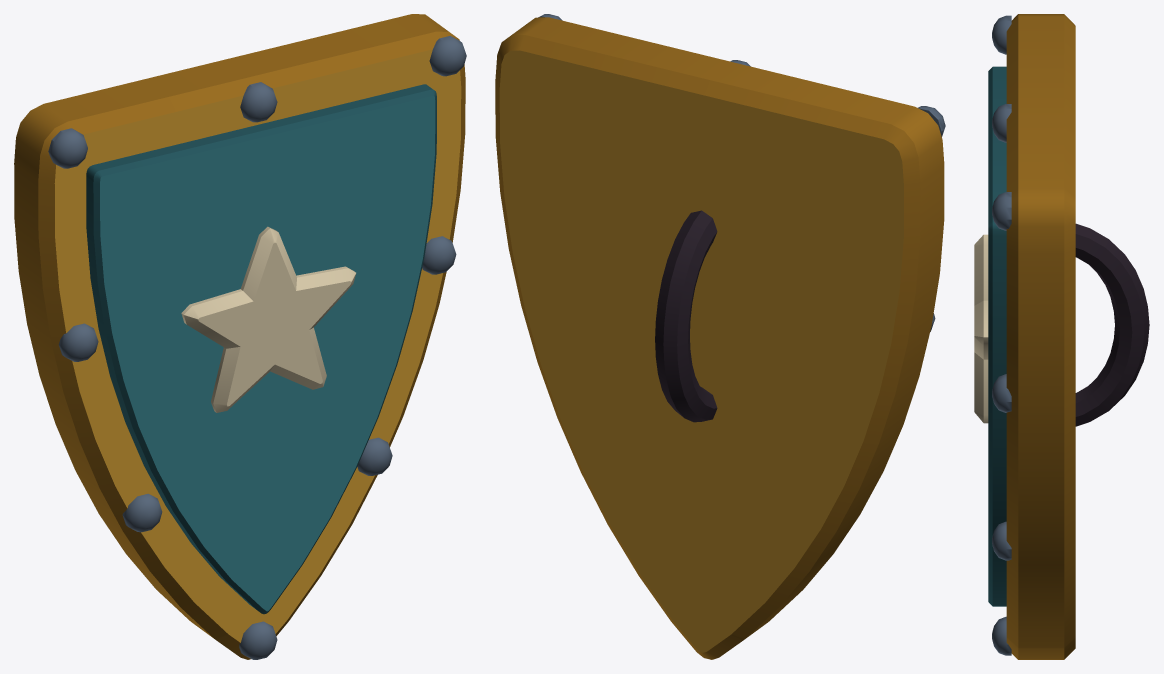
The model's file is HeaterShield_02.glb.
The picture shows the model from 3 angles, left to right: view 1: azimuth 30°, elevation 25°; view 2: azimuth 150°, elevation 25°; view 3: azimuth 270°, elevation 25°; orthographic projection. The views are drawn at different scales.
Visible parts, largest first — view 1: HeaterShield_02; view 2: HeaterShield_02; view 3: HeaterShield_02.
Boxes of the visible parts, box(x1,y1,x2,y2) form: HeaterShield_02: box(14, 14, 466, 659); HeaterShield_02: box(495, 14, 945, 659); HeaterShield_02: box(974, 14, 1149, 659).
Bounding box in the file's own units: 2.04 × 2.66 × 0.76.
